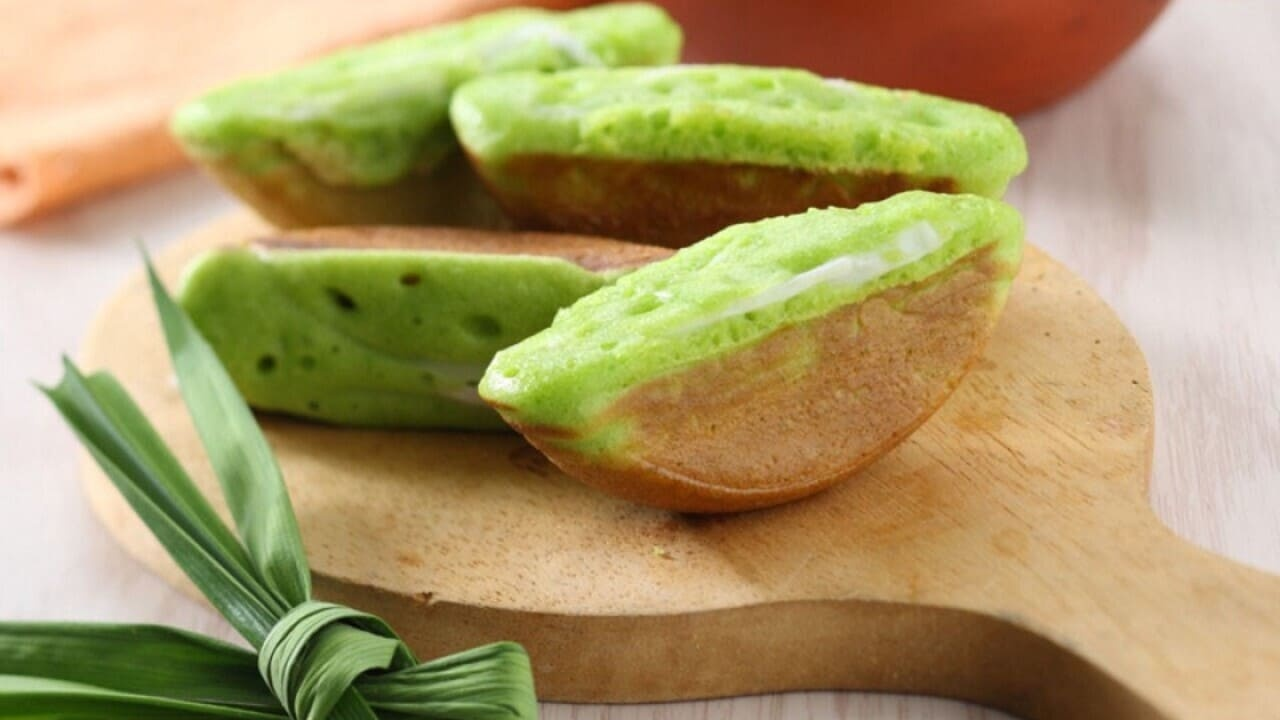pukis: (420, 160, 1105, 534)
